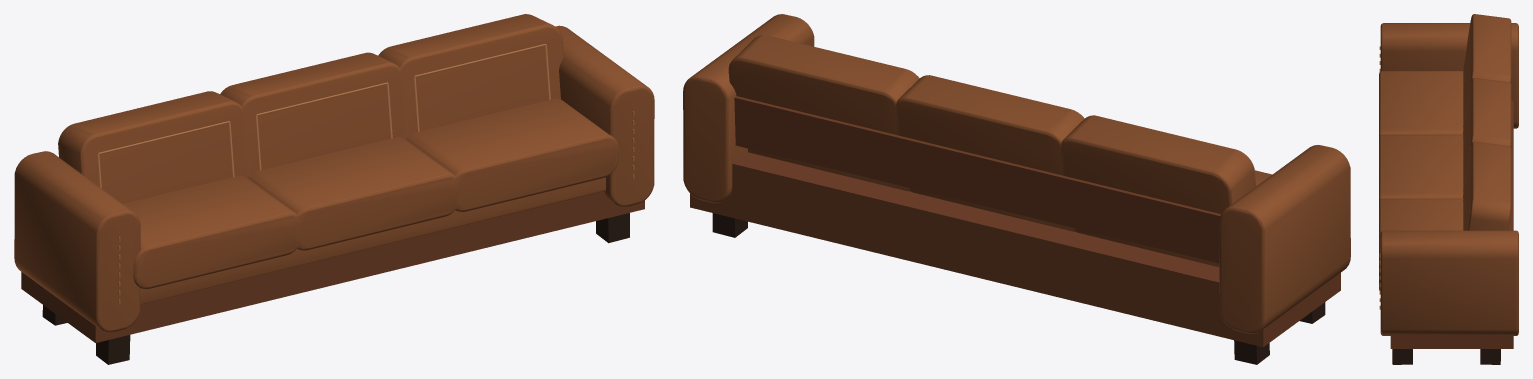
Rendered from cognac-leather-sofa-seatWidth-max.glb.
3 views of the same model, side by side, from view 1: azimuth 30°, elevation 25°; view 2: azimuth 150°, elevation 25°; view 3: azimuth 270°, elevation 25° (orthographic). The views are drawn at different scales.
Parts seen in each view (by area): view 1: sofa-part-28, sofa-part-4, seat-cushion-2-part-0, seat-cushion-1-part-0, back-cushion-3-part-0, back-cushion-2-part-0, back-cushion-1-part-0, seat-cushion-3-part-0, sofa-part-7, sofa-part-5, sofa-part-2, sofa-part-0; view 2: sofa-part-4, sofa-part-6, sofa-part-28, back-cushion-3-part-0, back-cushion-1-part-0, back-cushion-2-part-0, sofa-part-7, seat-cushion-3-part-0, seat-cushion-2-part-0, seat-cushion-1-part-0, sofa-part-3, sofa-part-1; view 3: sofa-part-7, seat-cushion-2-part-0, seat-cushion-3-part-0, sofa-part-28, back-cushion-1-part-0, back-cushion-2-part-0, back-cushion-3-part-0, seat-cushion-1-part-0, sofa-part-4, sofa-part-0, sofa-part-1.
Boxes of the visible parts, x1,y1,x2,y2 form: sofa-part-28: (14, 151, 140, 332); sofa-part-4: (21, 191, 644, 342); seat-cushion-2-part-0: (247, 137, 458, 250); seat-cushion-1-part-0: (406, 98, 618, 212); back-cushion-3-part-0: (58, 91, 248, 203); back-cushion-2-part-0: (220, 52, 406, 176); back-cushion-1-part-0: (378, 14, 563, 137); seat-cushion-3-part-0: (123, 175, 300, 289); sofa-part-7: (555, 25, 654, 207); sofa-part-5: (140, 177, 605, 304); sofa-part-2: (96, 335, 130, 364); sofa-part-0: (596, 213, 629, 243); sofa-part-4: (690, 152, 1340, 347); sofa-part-6: (734, 96, 1220, 263); sofa-part-28: (1219, 145, 1350, 333); back-cushion-3-part-0: (1060, 115, 1255, 213); back-cushion-1-part-0: (728, 35, 919, 135); back-cushion-2-part-0: (896, 75, 1084, 175); sofa-part-7: (683, 14, 814, 203); seat-cushion-3-part-0: (1075, 170, 1272, 266); seat-cushion-2-part-0: (910, 188, 1075, 231); seat-cushion-1-part-0: (748, 148, 909, 191); sofa-part-3: (1234, 340, 1269, 364); sofa-part-1: (712, 213, 747, 237); sofa-part-7: (1380, 230, 1518, 335); seat-cushion-2-part-0: (1379, 134, 1463, 201); seat-cushion-3-part-0: (1379, 71, 1463, 137); sofa-part-28: (1380, 23, 1518, 128); back-cushion-1-part-0: (1463, 141, 1511, 230); back-cushion-2-part-0: (1463, 78, 1511, 196); back-cushion-3-part-0: (1463, 14, 1511, 132); seat-cushion-1-part-0: (1379, 198, 1463, 290); sofa-part-4: (1390, 100, 1513, 348); sofa-part-0: (1392, 349, 1412, 364); sofa-part-1: (1480, 349, 1500, 364).
Size of the model in its own units: 3.39 by 1.08 by 0.886.
